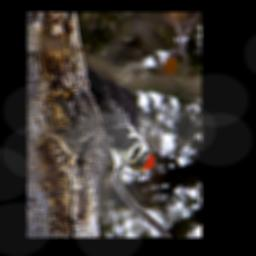Woodpecker: (87, 64, 158, 174)
